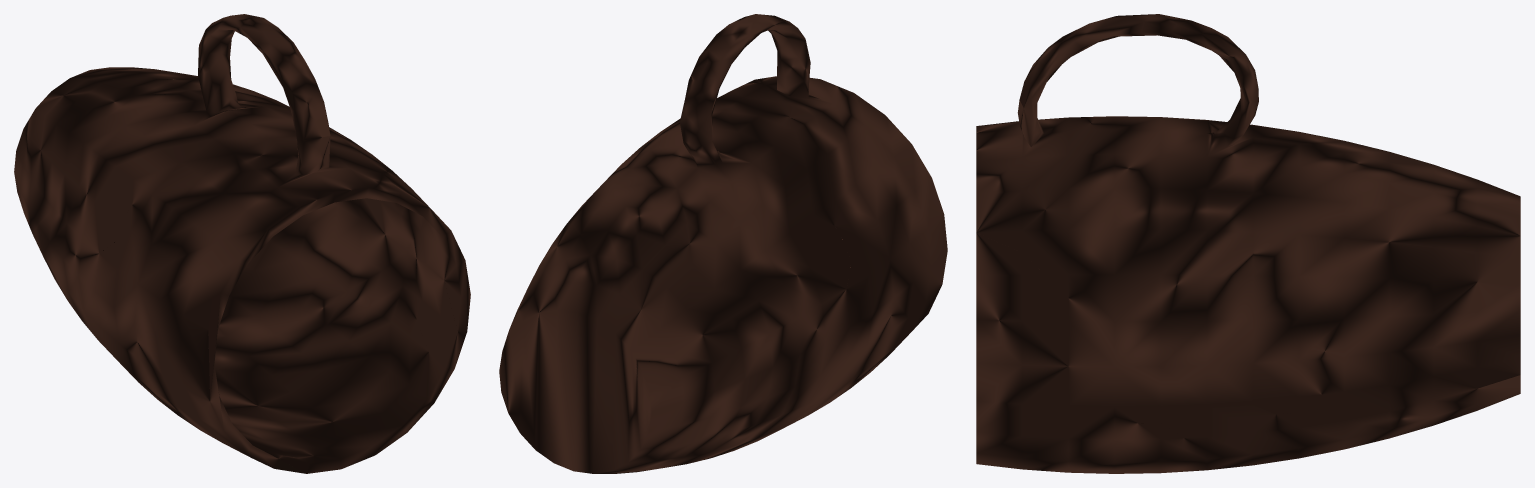
File: model_align.obj
The picture shows the model from 3 angles, left to right: view 1: azimuth 30°, elevation 25°; view 2: azimuth 150°, elevation 25°; view 3: azimuth 270°, elevation 25°; orthographic projection. The views are drawn at different scales.
Size of the model in its own units: 0.0707 by 0.0952 by 0.1069.
